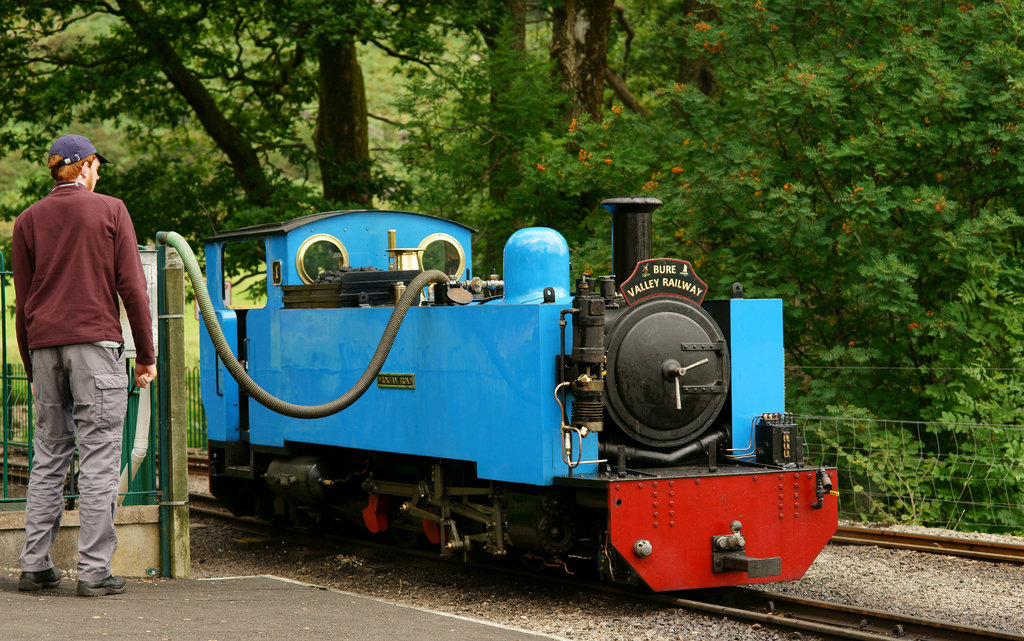train: (194, 201, 846, 597)
